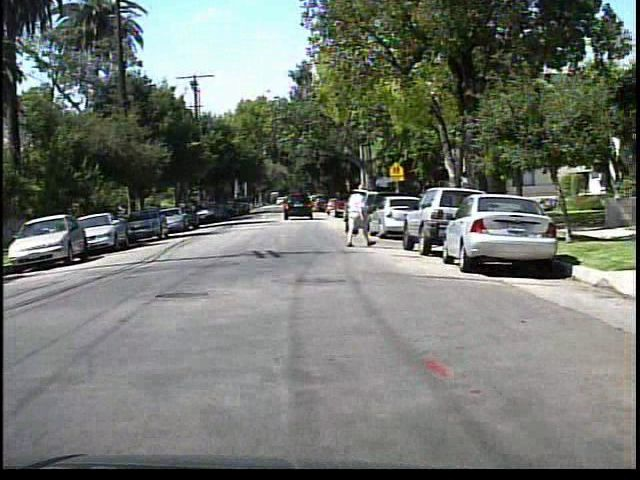person: (340, 184, 377, 250)
